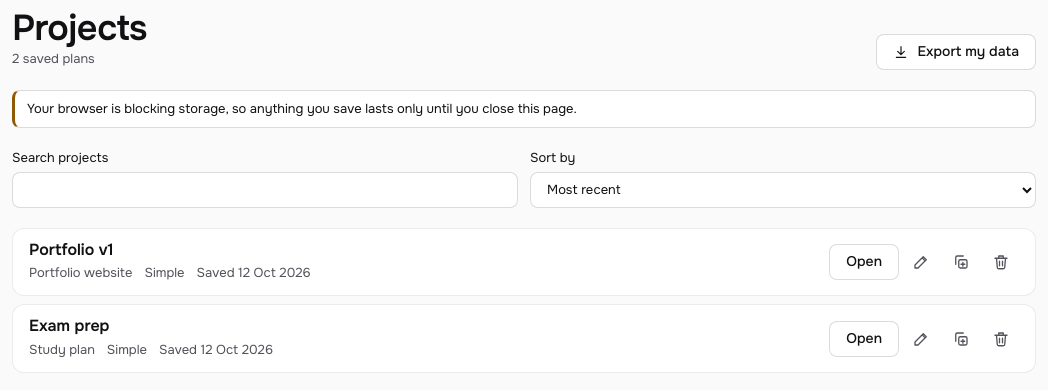
Test case: Projects page › searches by title and goal type, and says when nothing matches
Expected: the link "Exam prep" is shown, [29,315,110,336]
In the search field labelled "Search projects": (265, 190) [12,172,518,208], type "exam"
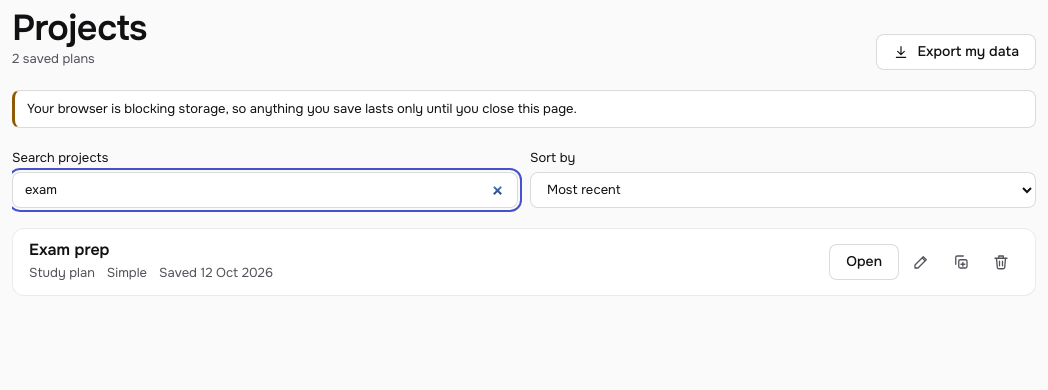
Expected: the link "Exam prep" is shown, [29,239,110,260]
Now the link "Portfolio v1" is gone
Replace the text in the search field labelled "Search projects" with "zzz": (265, 190) [12,172,518,208]
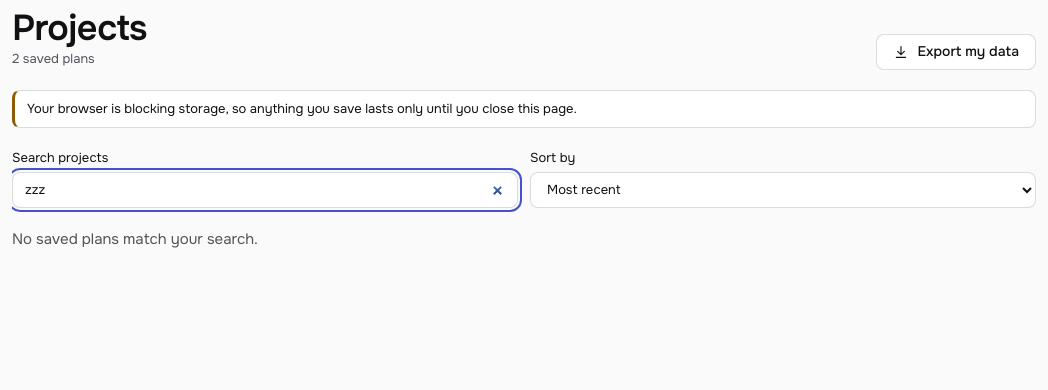
Now the text "No saved plans match your search." is shown, box [12,229,258,249]
